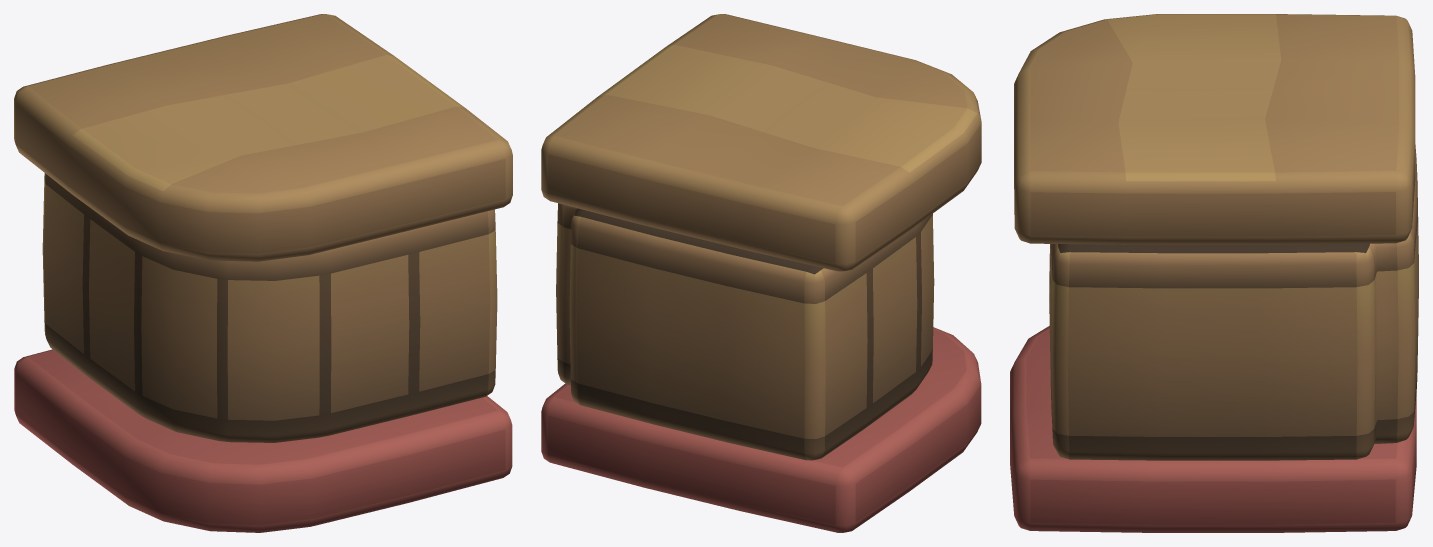
The model's file is tavern_counter_corner.fbx.
3 views of the same model, side by side, from view 1: azimuth 30°, elevation 25°; view 2: azimuth 150°, elevation 25°; view 3: azimuth 270°, elevation 25° (orthographic). The views are drawn at different scales.
Visible parts, largest first — view 1: tavern_counter_corner_LOD0; view 2: tavern_counter_corner_LOD0; view 3: tavern_counter_corner_LOD0.
Part boxes in pixels (x1,y1,x2,y2): tavern_counter_corner_LOD0: (14, 14, 512, 532); tavern_counter_corner_LOD0: (541, 14, 981, 532); tavern_counter_corner_LOD0: (1010, 14, 1418, 532).
Size of what is drawn, in the model's own units: 103 by 100 by 103.
